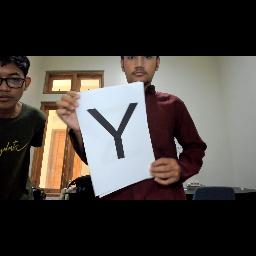y: (84, 99, 140, 163)
